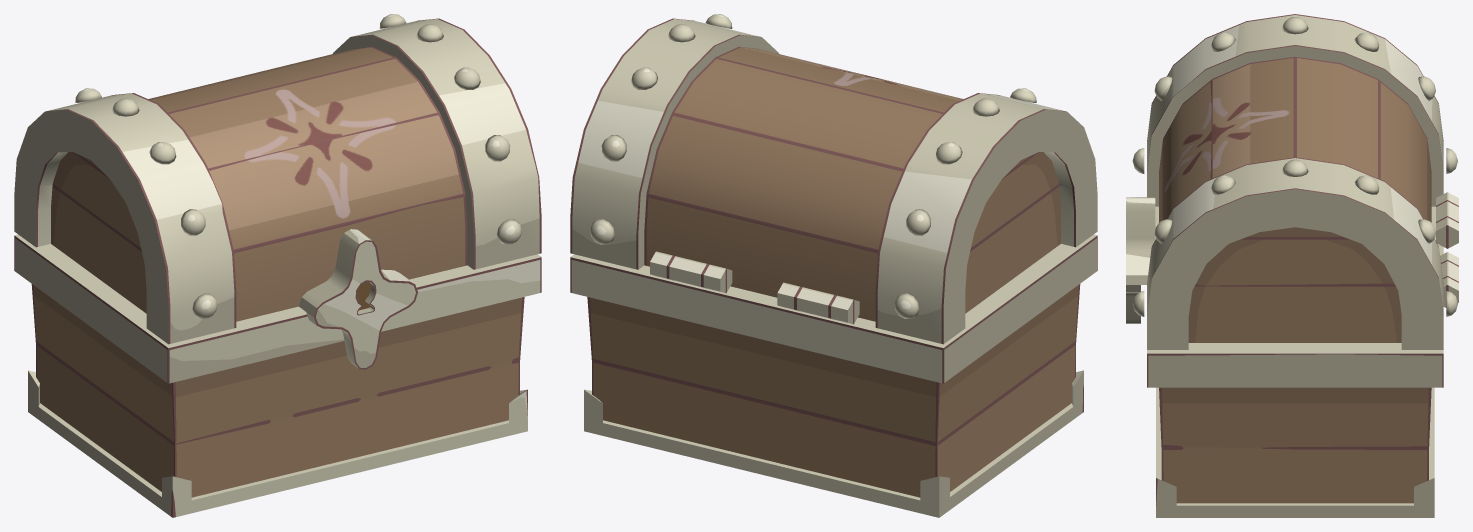
Rendered from Mesh_Adventure_TreasureChests_SM.FBX.
The picture shows the model from 3 angles, left to right: view 1: azimuth 30°, elevation 25°; view 2: azimuth 150°, elevation 25°; view 3: azimuth 270°, elevation 25°; orthographic projection. The views are drawn at different scales.
Visible parts, largest first — view 1: Mesh_Adventure_TreasureChests; view 2: Mesh_Adventure_TreasureChests; view 3: Mesh_Adventure_TreasureChests.
Boxes of the visible parts, x1,y1,x2,y2 form: Mesh_Adventure_TreasureChests: (14, 14, 541, 517); Mesh_Adventure_TreasureChests: (570, 14, 1097, 517); Mesh_Adventure_TreasureChests: (1126, 14, 1458, 517).
Bounding box in the file's own units: 83.18 × 76.46 × 66.8.
